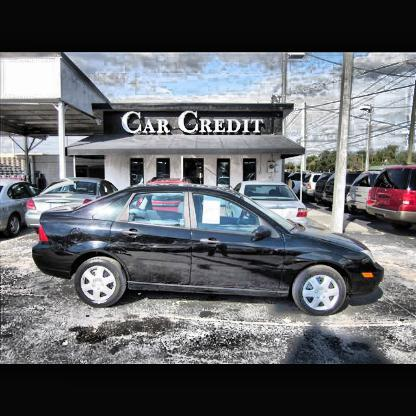Ford Focus Sedan 2007: (32, 181, 386, 318)
